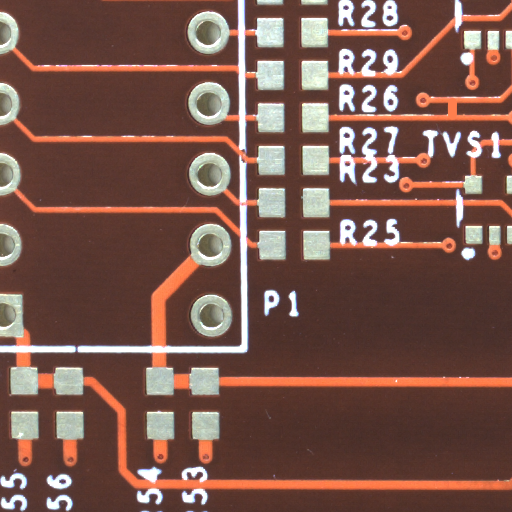Short: (452, 108, 467, 126)
